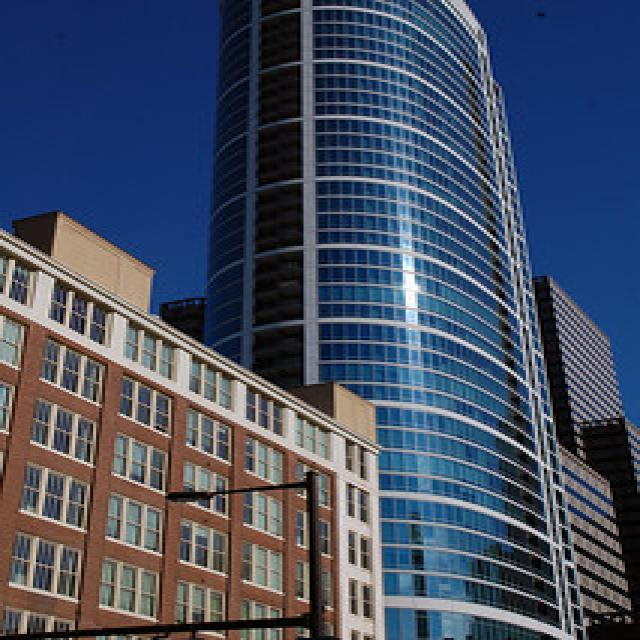Normal_building: (207, 4, 565, 640)
